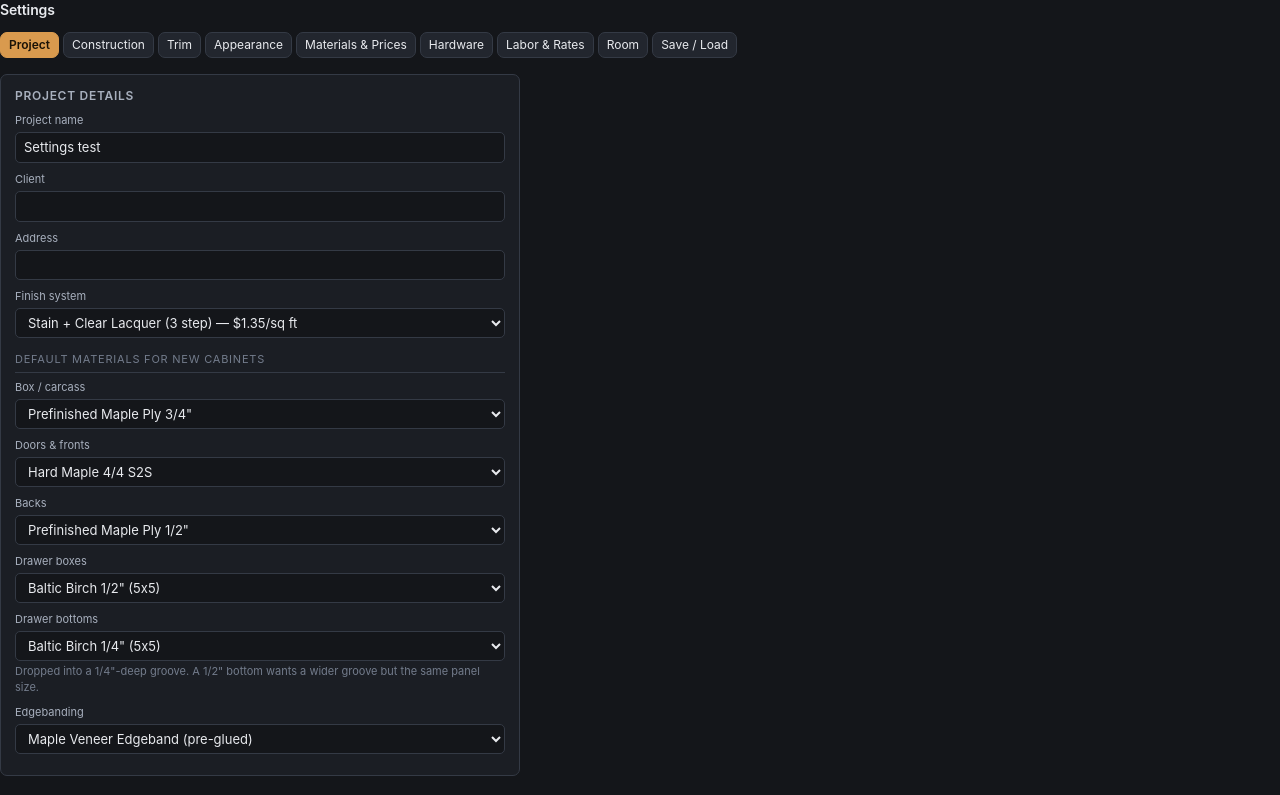
Test: SettingsView navigation › moves between tabs
Click the button "Construction": (108, 45) [63, 32, 154, 58]
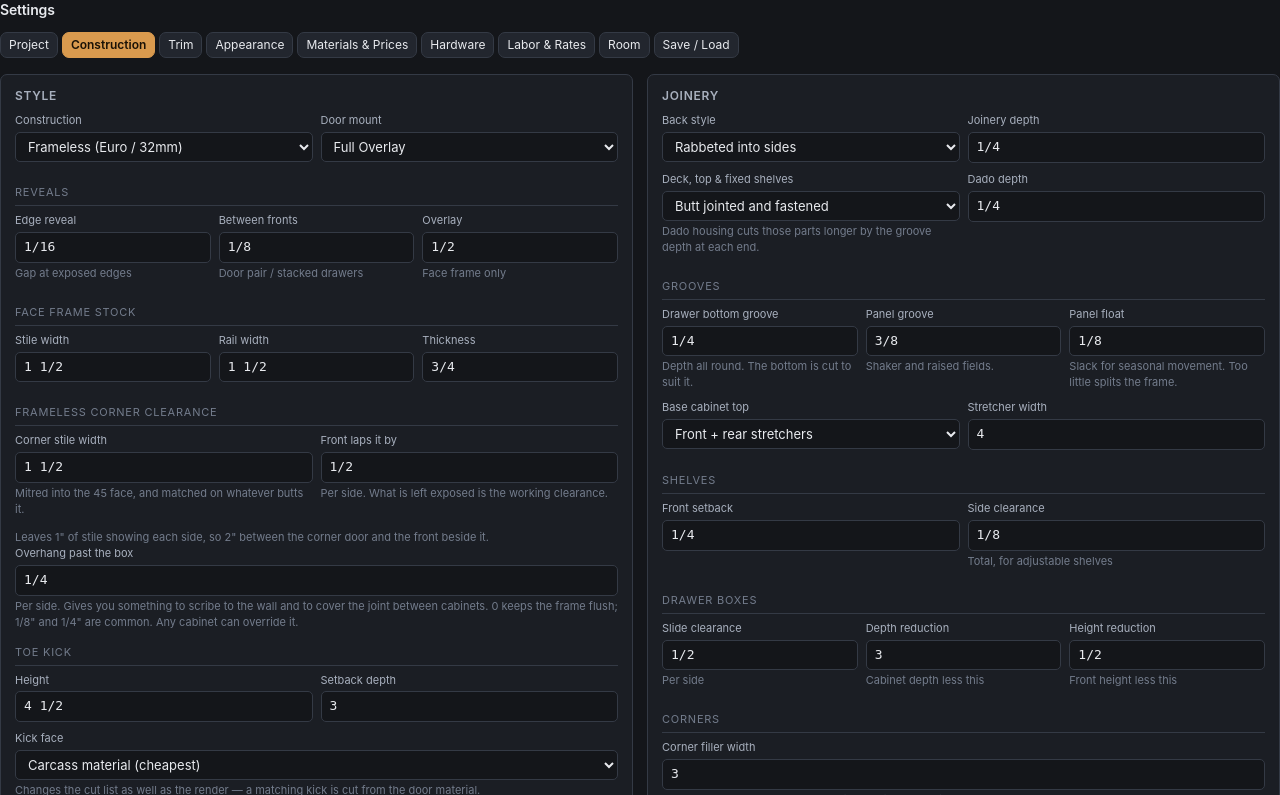
Expected: the heading "Style" is shown, [15, 88, 57, 103]
Click the button "Materials & Prices": (357, 45) [298, 32, 417, 58]
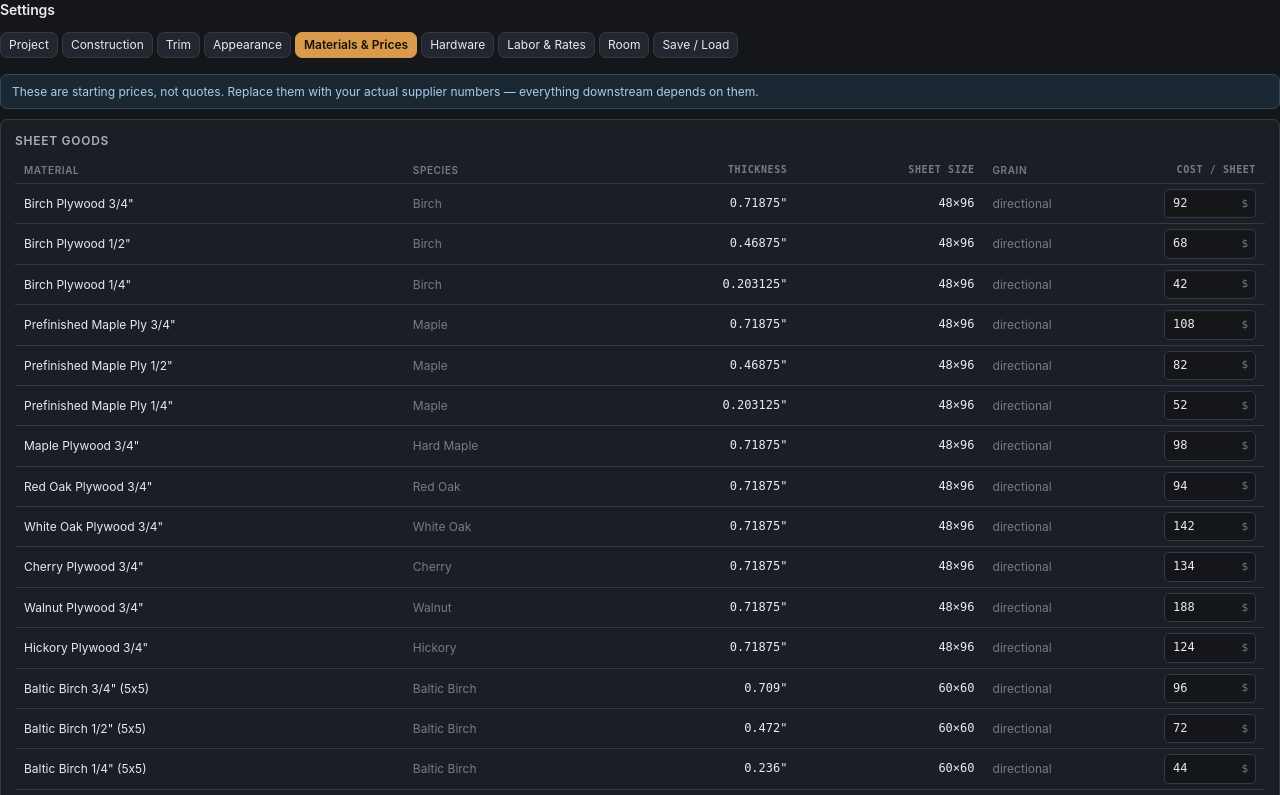
Expected: the heading "Sheet Goods" is shown, [15, 133, 109, 148]
Click the button "Labor & Rates": (547, 45) [498, 32, 595, 58]
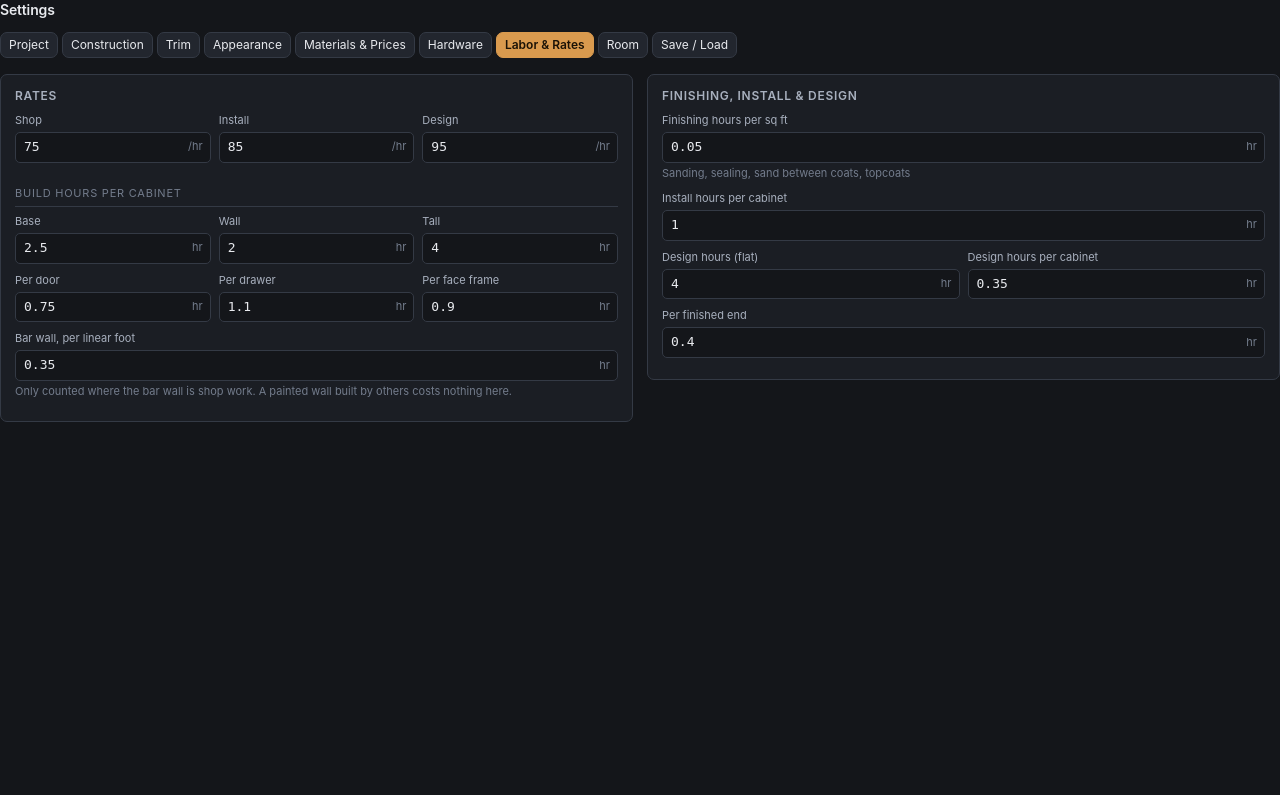
Expected: the heading "Rates" is shown, [15, 88, 57, 103]
Click the button "Room": (623, 45) [598, 32, 648, 58]
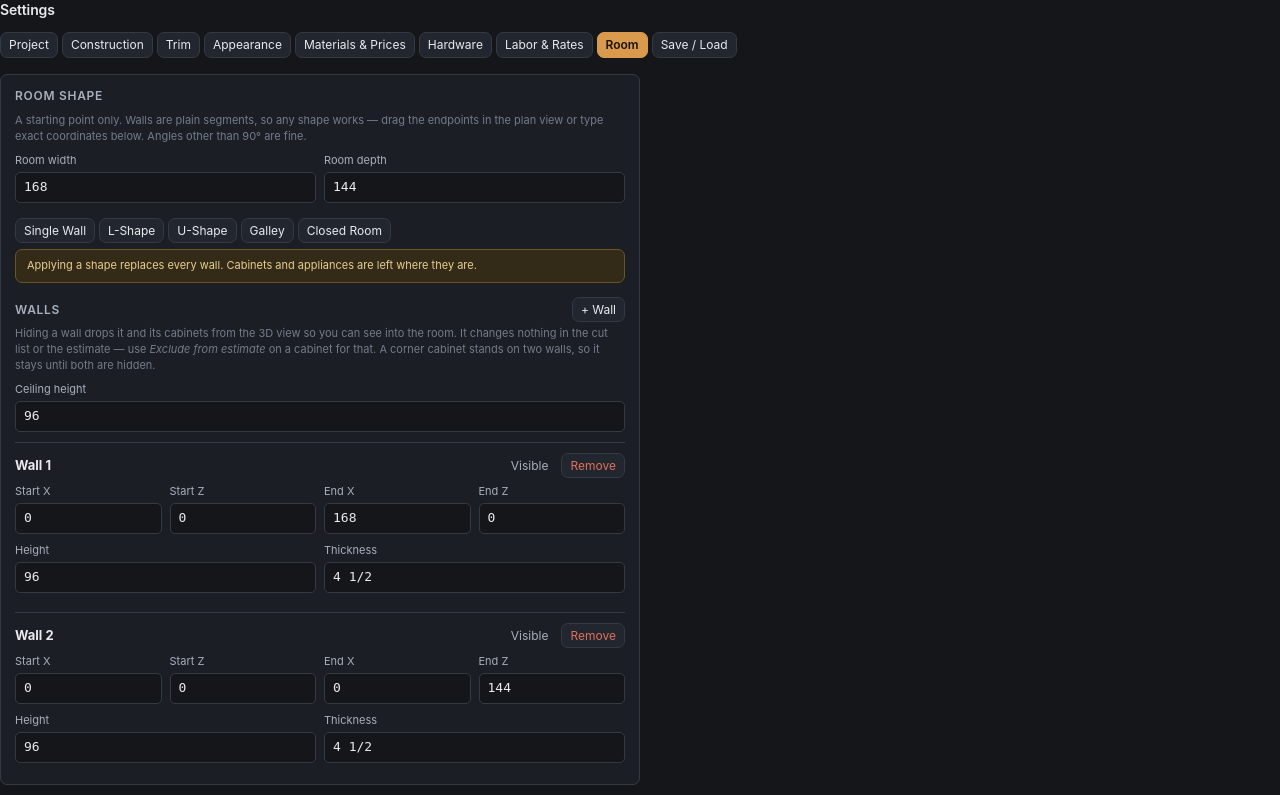
Expected: the heading "Room Shape" is shown, [15, 88, 103, 103]
Click the button "Save / Load": (694, 45) [652, 32, 737, 58]
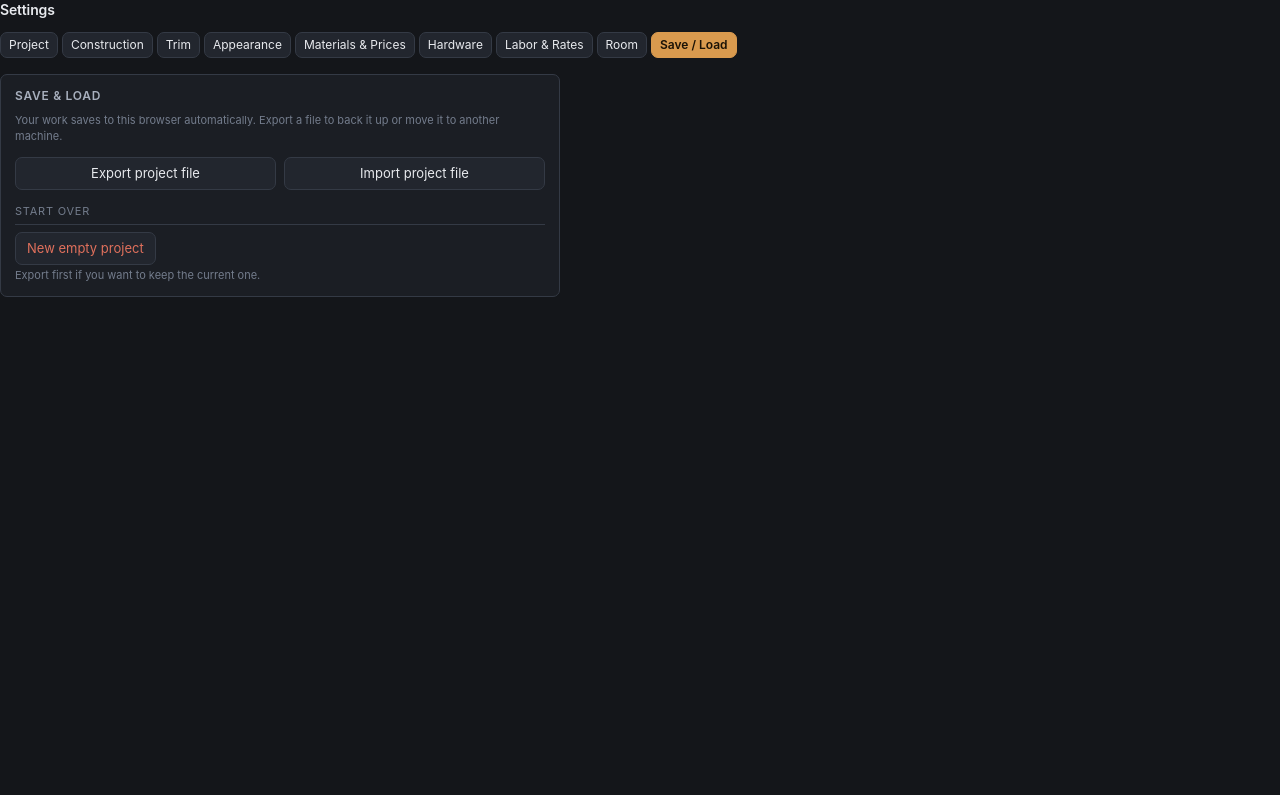
Expected: the heading "Save & Load" is shown, [15, 88, 101, 103]
